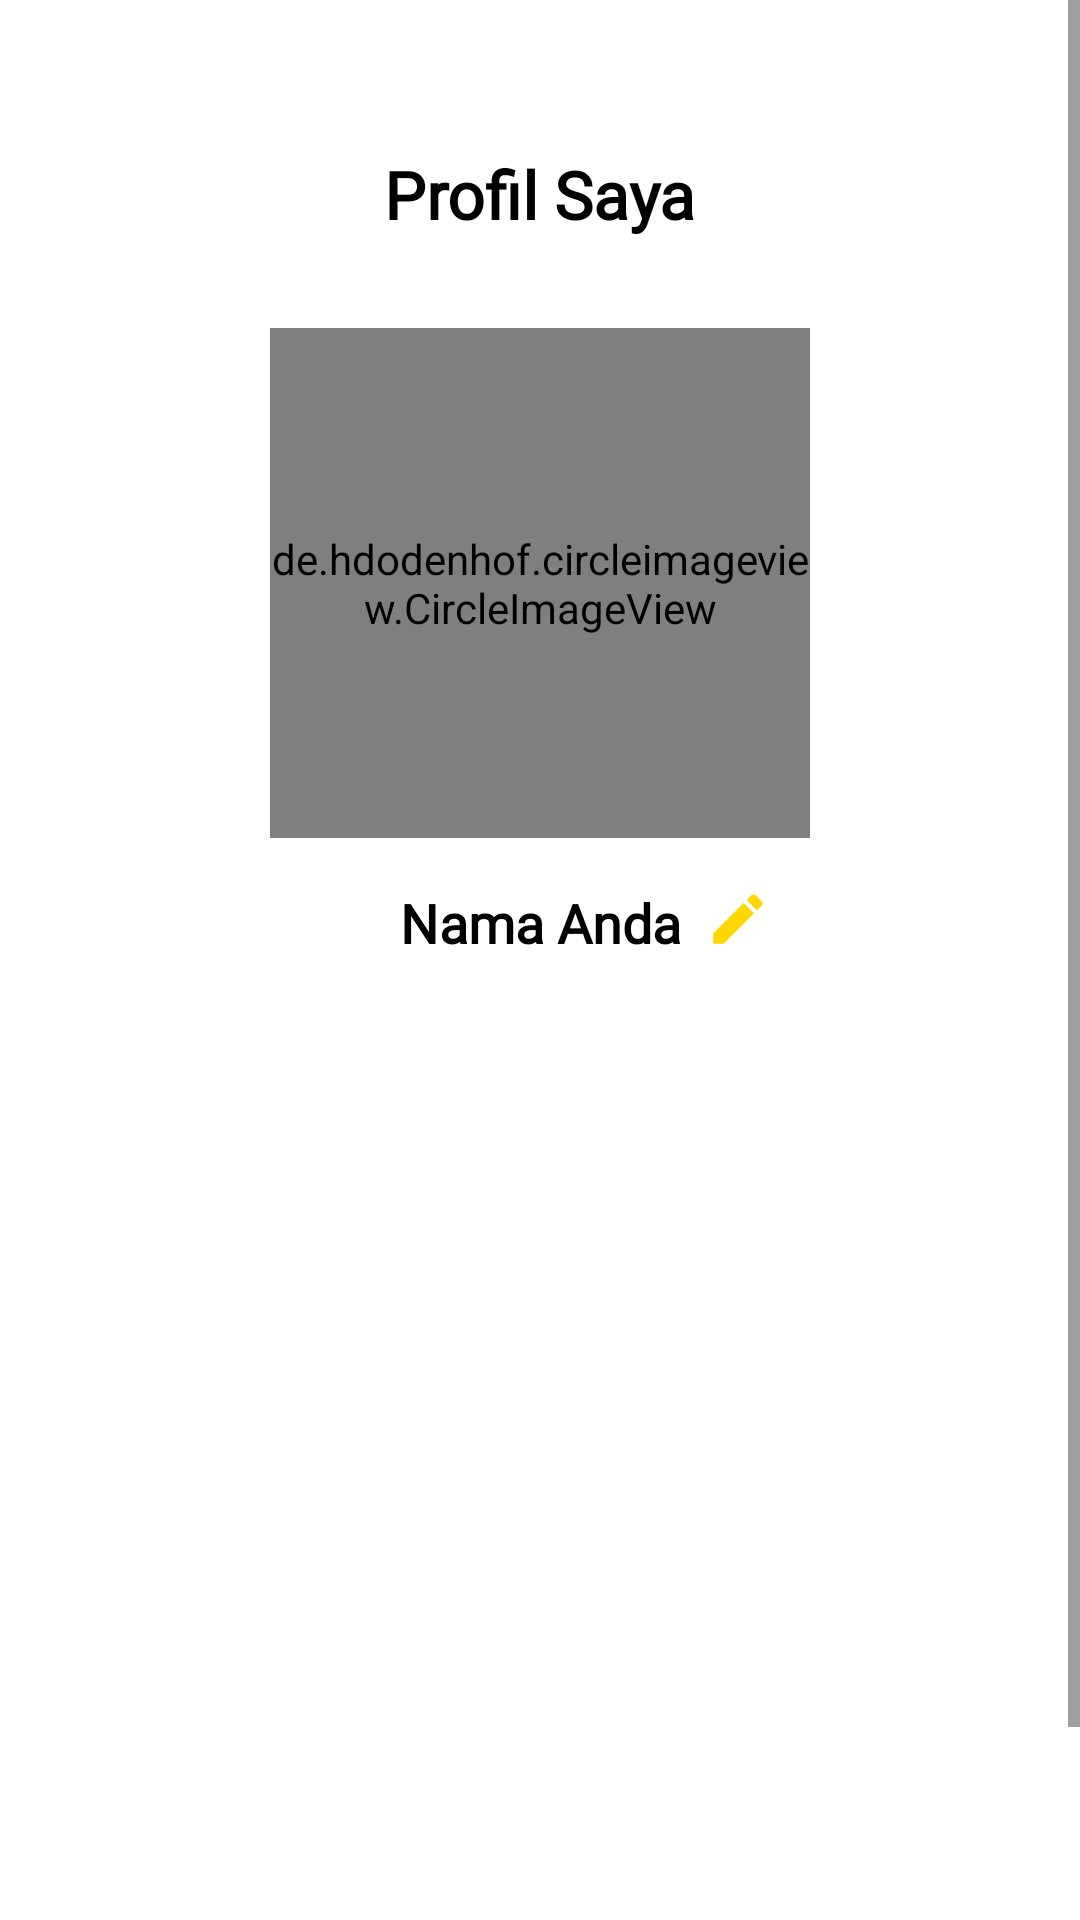

Icon bounding boxes for this 1080×1920 phone screenshot, format (x1, y1, x2, y2):
Edit Nama: (713, 894, 763, 944)
